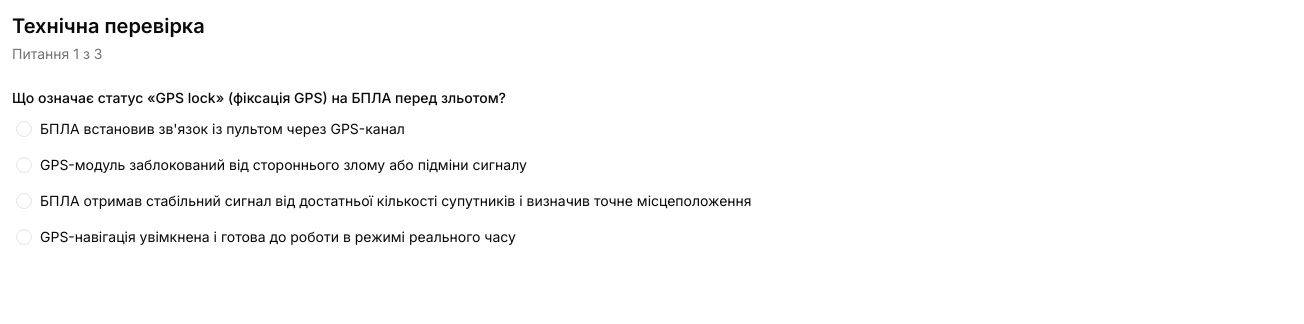
Test case: TechVerificationBlock — with drone-piloting declared › shows Наступне питання button after selecting an answer
Click the 1st radio button at (24, 129), box [16, 121, 32, 137]
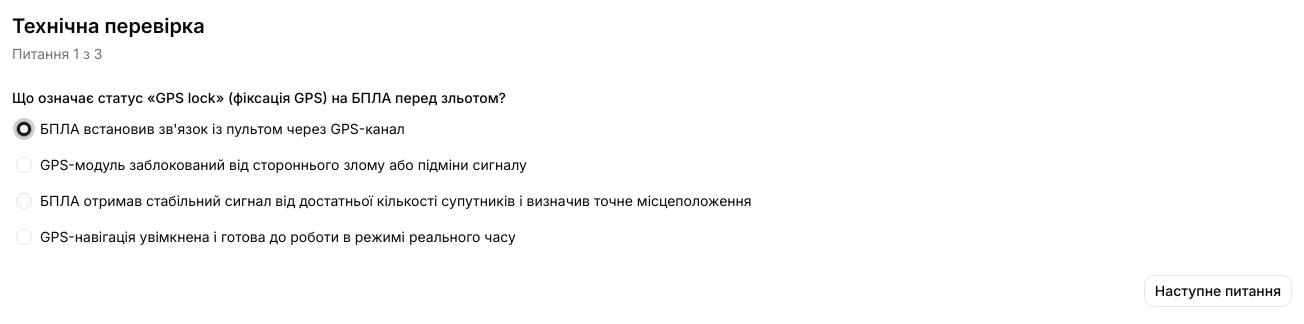
Expected: the button "Наступне питання" is shown, [1144, 275, 1292, 307]
